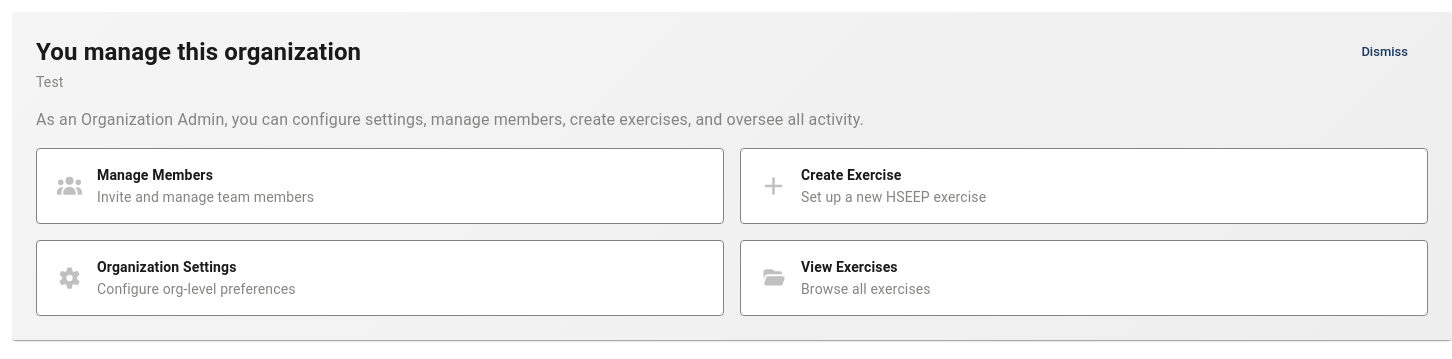
Scenario: RoleOrientationPanel › can be dismissed and shows restore button
Check: the heading "You manage this organization" is shown, box 36,36 -> 361,68
What coordinates should you click on to do the following:
click the button "Dismiss"
I would click on:
 (1385, 52)
Its box is 1341,36 -> 1428,69.
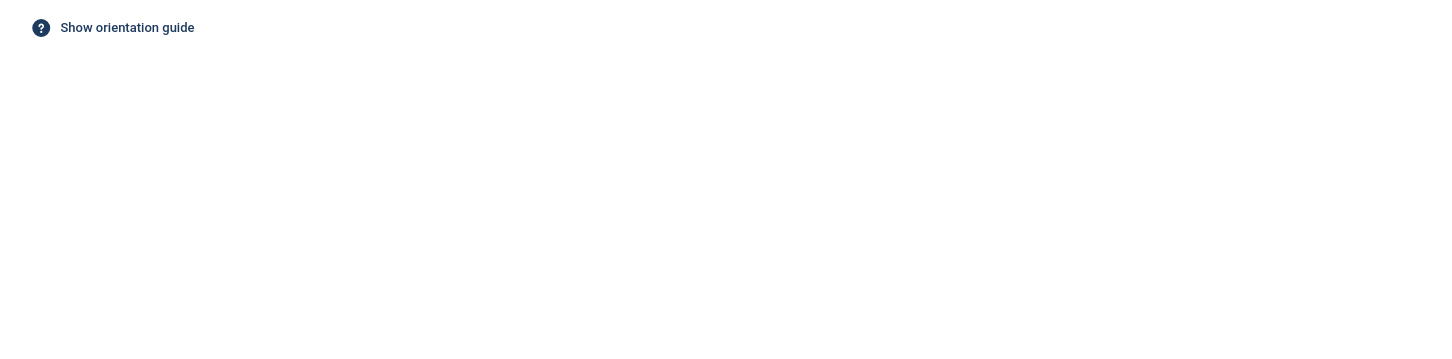
Check: the heading "You manage this organization" is gone
Check: the button "Show orientation guide" is shown, box 12,12 -> 214,45
